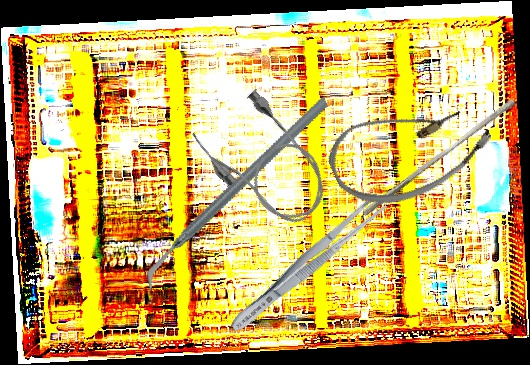Cannula: (318, 75, 502, 224), (185, 82, 343, 243)
Chopper: (106, 96, 367, 292)
Dressing Forceps: (225, 190, 390, 338)
Pusher: (361, 93, 517, 223)
